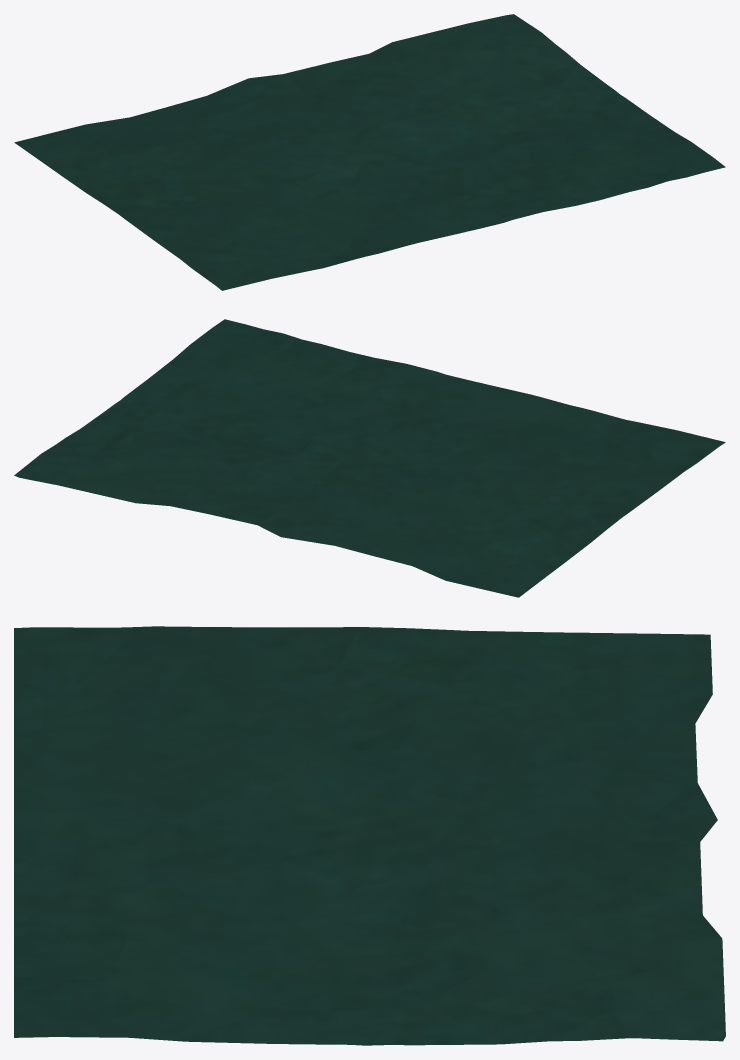
3 views of the same model, one above another, from view 1: azimuth 30°, elevation 25°; view 2: azimuth 150°, elevation 25°; view 3: azimuth 270°, elevation 25° (orthographic). The views are drawn at different scales.
Bounding box in the file's own units: 52.22 × 0.6832 × 38.21.
2 materials, 2 textured.
